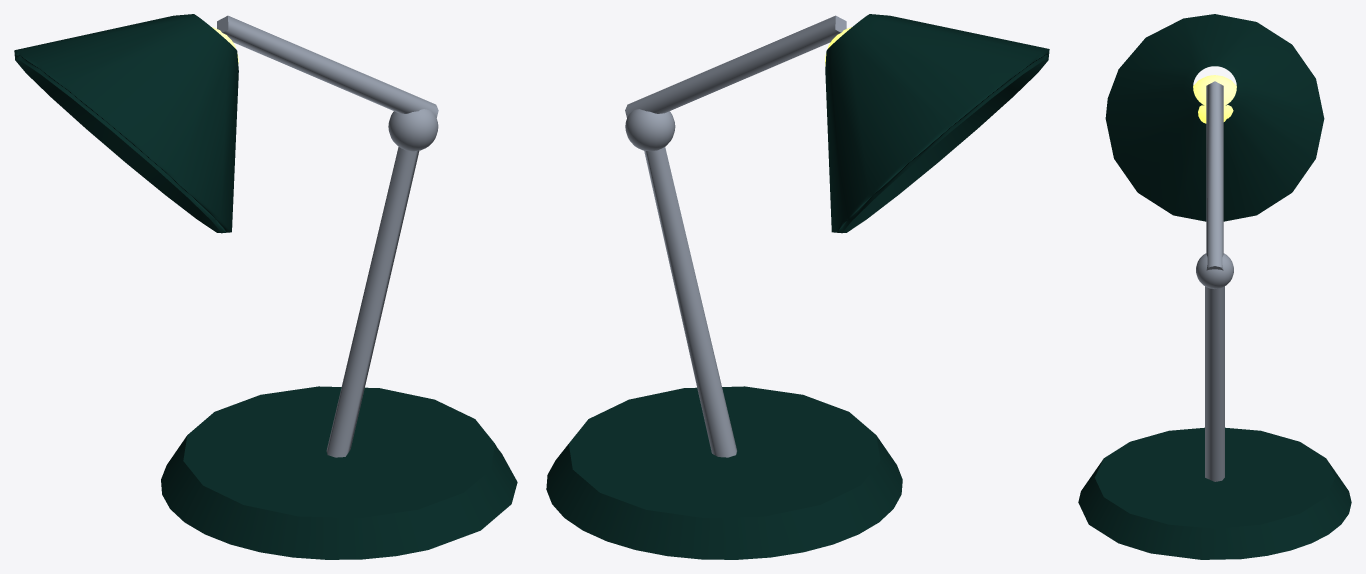
File: desk-lamp-retro.glb
3 renders of one model, left to right at view 1: azimuth 30°, elevation 25°; view 2: azimuth 150°, elevation 25°; view 3: azimuth 270°, elevation 25°, orthographic. The views are drawn at different scales.
Visible parts, largest first — view 1: Base, Shade, Arm Lower, Arm Upper, Joint; view 2: Base, Shade, Arm Lower, Arm Upper, Joint; view 3: Shade, Base, Arm Lower, Arm Upper, Bulb, Joint.
Part boxes in pixels (x1=…): Base: x1=161, y1=386, x2=517, y2=559; Shade: x1=14, y1=14, x2=238, y2=233; Arm Lower: x1=326, y1=147, x2=419, y2=457; Arm Upper: x1=217, y1=15, x2=438, y2=117; Joint: x1=388, y1=109, x2=438, y2=151; Base: x1=546, y1=386, x2=902, y2=559; Shade: x1=825, y1=14, x2=1049, y2=233; Arm Lower: x1=644, y1=147, x2=736, y2=457; Arm Upper: x1=625, y1=15, x2=846, y2=117; Joint: x1=625, y1=109, x2=675, y2=151; Shade: x1=1105, y1=14, x2=1324, y2=221; Base: x1=1078, y1=427, x2=1351, y2=559; Arm Lower: x1=1205, y1=286, x2=1224, y2=481; Arm Upper: x1=1206, y1=81, x2=1223, y2=270; Bulb: x1=1193, y1=75, x2=1236, y2=123; Joint: x1=1196, y1=253, x2=1233, y2=288.
Bounding box in the file's own units: 0.732 × 0.7764 × 0.5.
